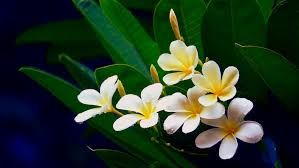frangipani: (157, 40, 198, 85)
